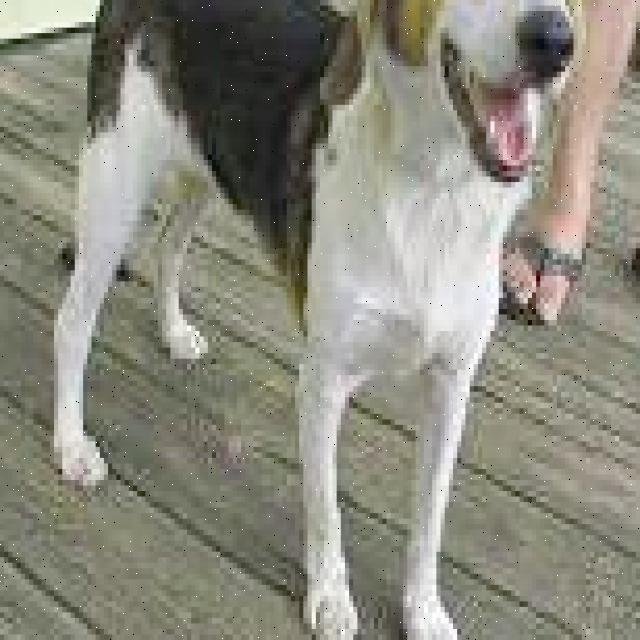Dog: (324, 0, 607, 193)
